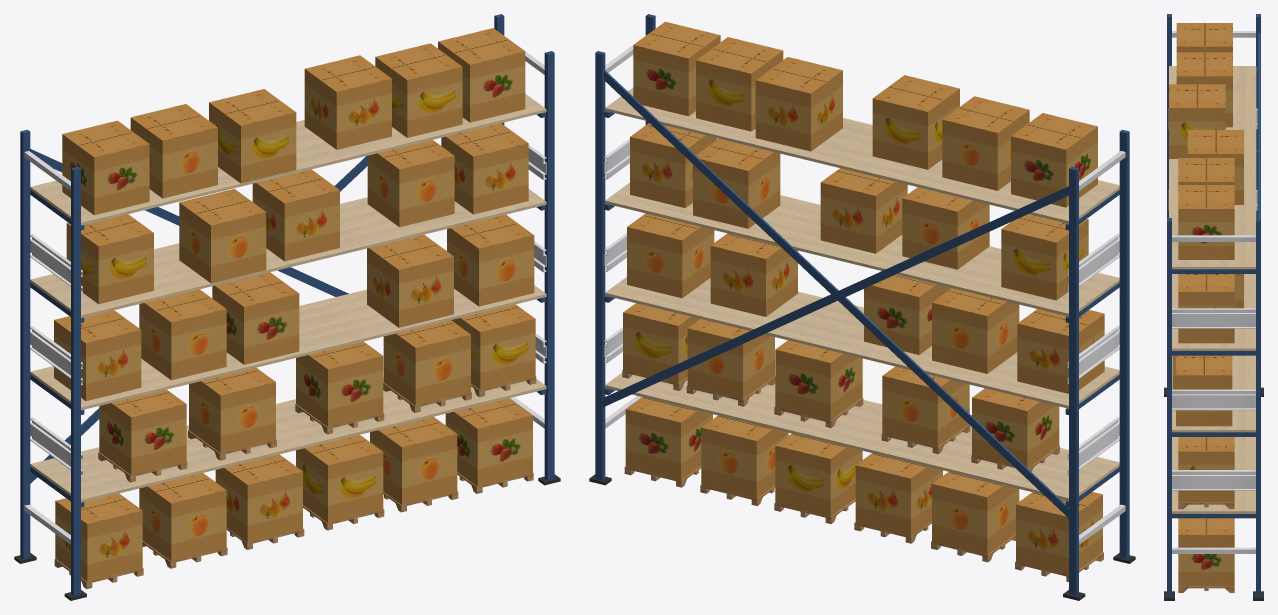
Rendered from BigShelves03Group3.glb.
The picture shows the model from 3 angles, left to right: view 1: azimuth 30°, elevation 25°; view 2: azimuth 150°, elevation 25°; view 3: azimuth 270°, elevation 25°; orthographic projection. The views are drawn at different scales.
Visible parts, largest first — view 1: Cardboard_box08, Cardboard_box07, BigShelves03, BigShelvesWoodBox; view 2: Cardboard_box08, BigShelves03, Cardboard_box07, BigShelvesWoodBox; view 3: BigShelves03, Cardboard_box07, Cardboard_box08, BigShelvesWoodBox.
Part boxes in pixels (x1,y1,x2,y2): Cardboard_box08: (66, 43, 535, 561); Cardboard_box07: (54, 28, 532, 581); BigShelves03: (14, 14, 560, 600); BigShelvesWoodBox: (54, 376, 536, 589); Cardboard_box08: (623, 37, 1088, 554); BigShelves03: (589, 14, 1135, 600); Cardboard_box07: (625, 21, 1104, 574); BigShelvesWoodBox: (622, 370, 1103, 581); BigShelves03: (1164, 14, 1263, 600); Cardboard_box07: (1172, 23, 1243, 586); Cardboard_box08: (1169, 52, 1243, 502); BigShelvesWoodBox: (1178, 502, 1234, 592).
Size of the model in its own units: 9.03 by 7.59 by 1.81.
9 materials, 9 textured.
